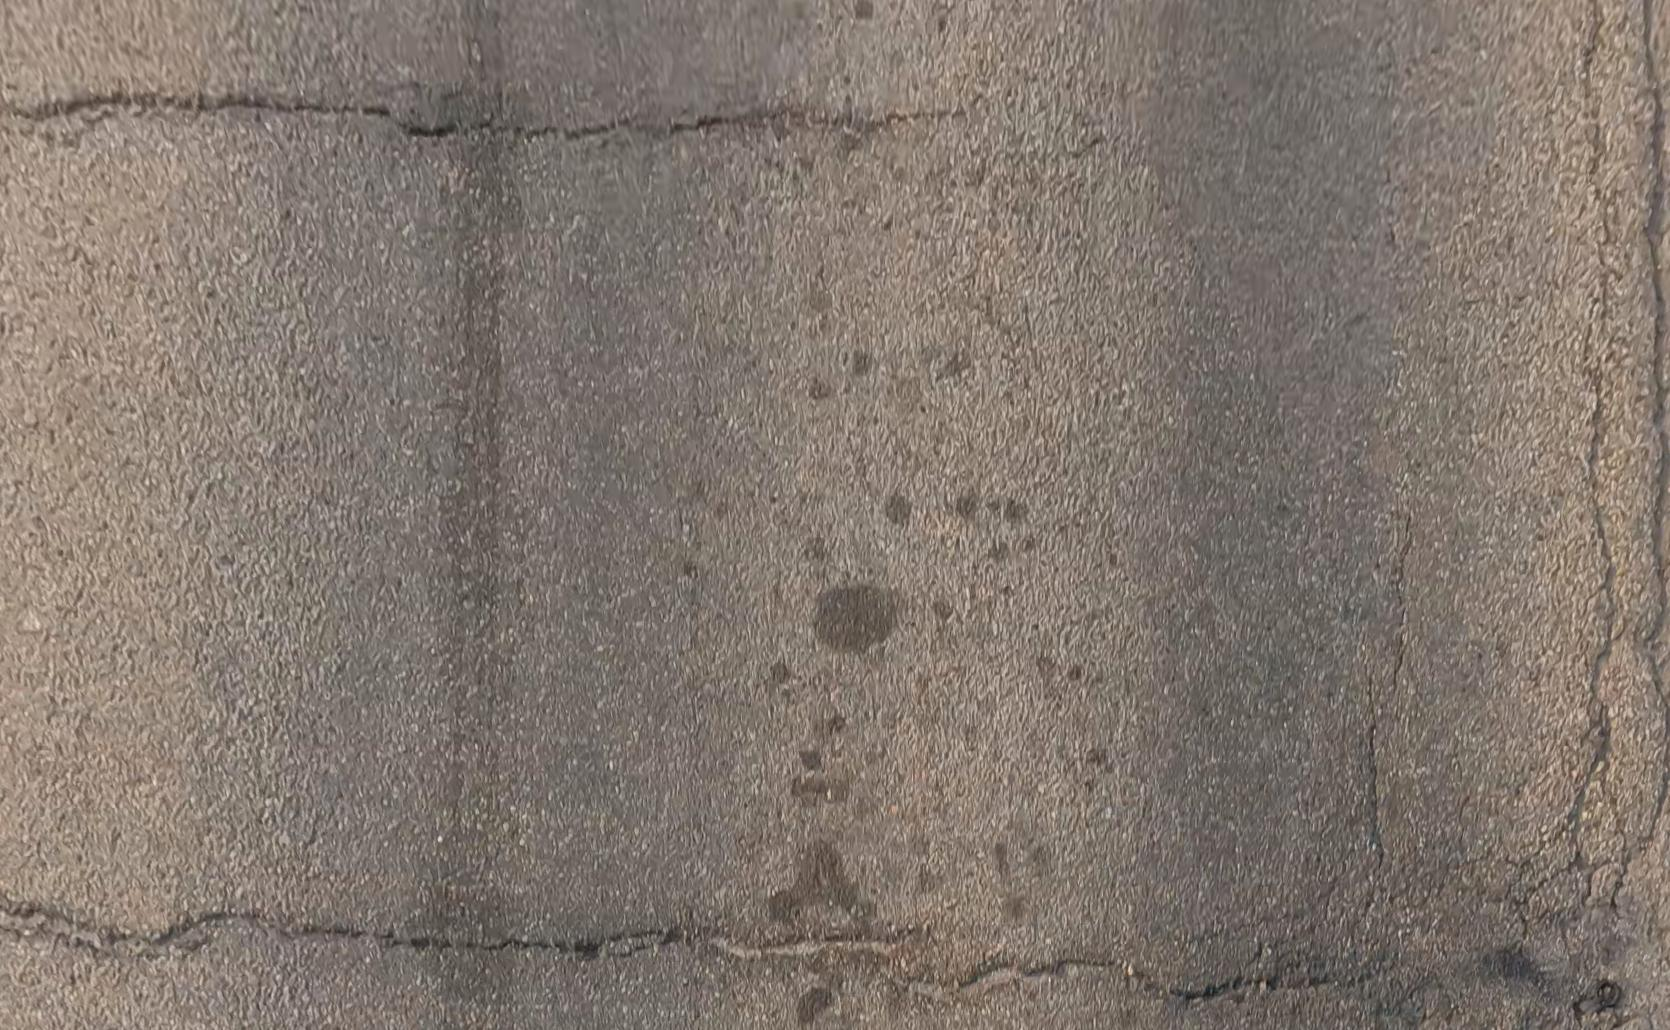pothole_patch_poor: (1482, 913, 1668, 1025)
